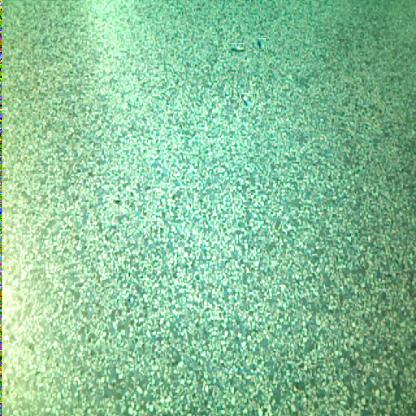dirty: (241, 94, 254, 107), (229, 43, 245, 52), (256, 39, 267, 49)
